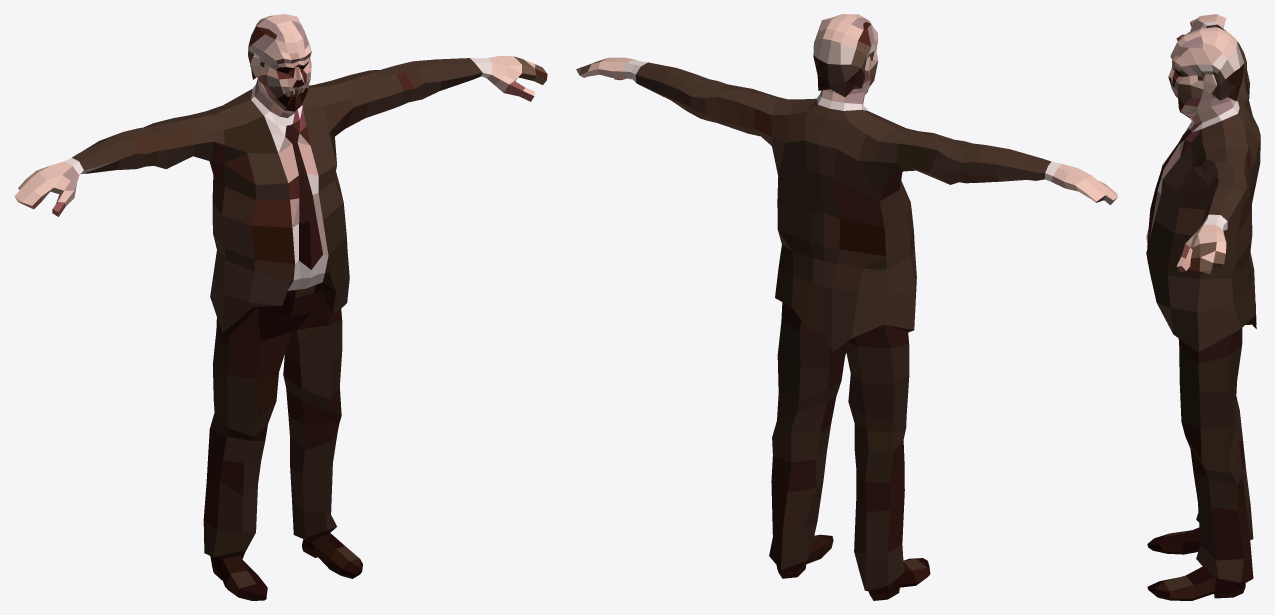
The model's file is Zombie_elegante.fbx.
3 views of the same model, side by side, from view 1: azimuth 30°, elevation 25°; view 2: azimuth 150°, elevation 25°; view 3: azimuth 270°, elevation 25° (orthographic). The views are drawn at different scales.
Visible parts, largest first — view 1: Object_390; view 2: Object_390; view 3: Object_390.
Part boxes in pixels (<box>): Object_390: <box>14,14,547,600</box>; Object_390: <box>576,14,1117,600</box>; Object_390: <box>1146,14,1260,600</box>.
Bounding box in the file's own units: 6505 × 6483 × 1242.
1 material, 1 textured.
